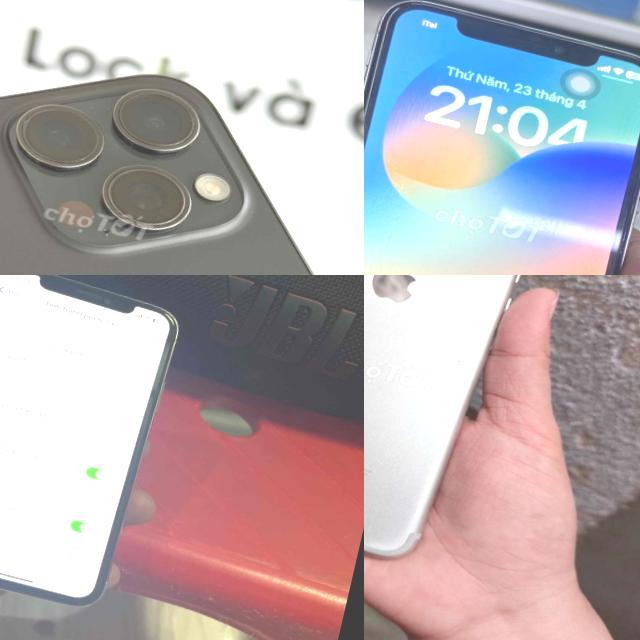gen_15: (0, 0, 364, 275)
gen_7_8: (364, 275, 537, 571)
gen_x_xs: (364, 0, 640, 275), (0, 275, 182, 620)
scratch: (364, 287, 422, 457)
